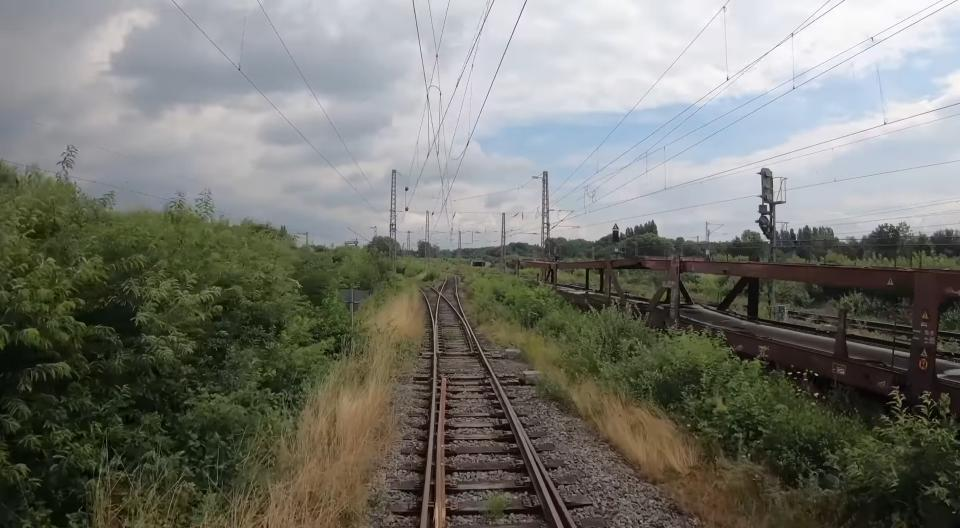Plant: (462, 273, 810, 528), (228, 283, 424, 528), (482, 492, 510, 517)
